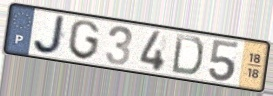3: (104, 25, 134, 66)
4: (138, 29, 167, 73)
5: (207, 38, 240, 83)
D: (169, 32, 205, 78)
G: (67, 19, 102, 62)
J: (32, 14, 68, 56)
